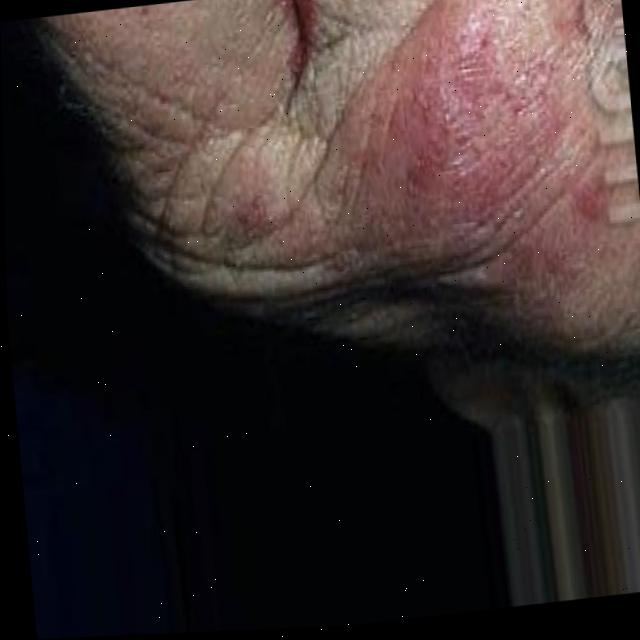Rosacea: (354, 0, 611, 273)
